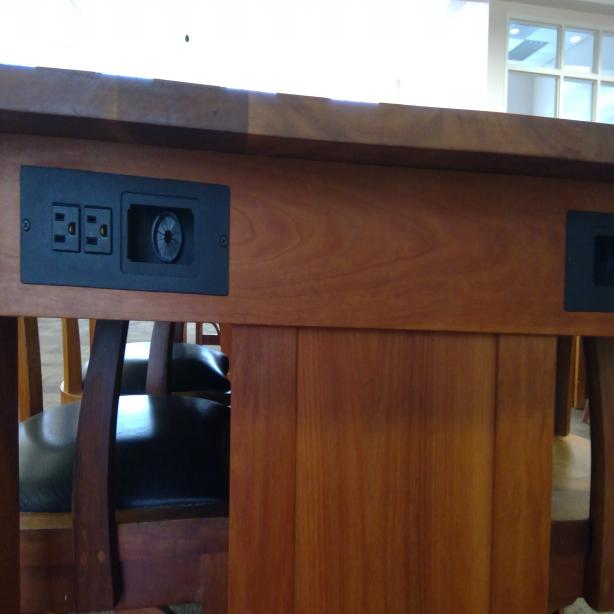typeb: (49, 200, 80, 250), (83, 208, 111, 252)
